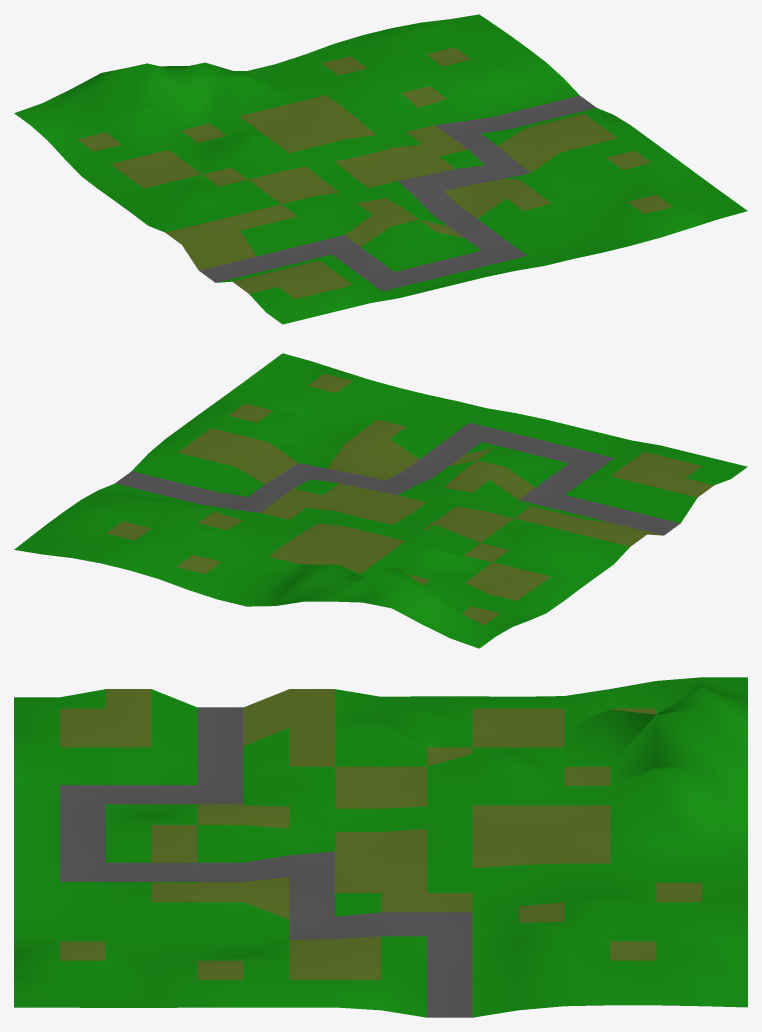
File: grass2.fbx
3 views of the same model, one above another, from view 1: azimuth 30°, elevation 25°; view 2: azimuth 150°, elevation 25°; view 3: azimuth 270°, elevation 25° (orthographic). The views are drawn at different scales.
Parts seen in each view (by area): view 1: Cube; view 2: Cube; view 3: Cube.
Part boxes in pixels (x1,y1,x2,y2): Cube: [14, 14, 747, 324]; Cube: [14, 353, 747, 648]; Cube: [14, 677, 747, 1017].
Size of the model in its own units: 2000 by 248 by 2000.
